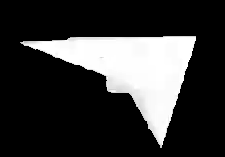Plane: (16, 28, 203, 150)
